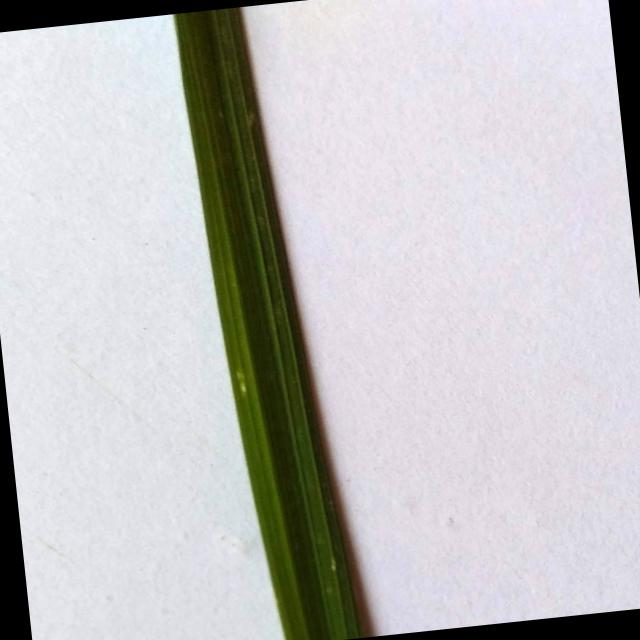Rice_Healthy: (173, 7, 363, 640)
